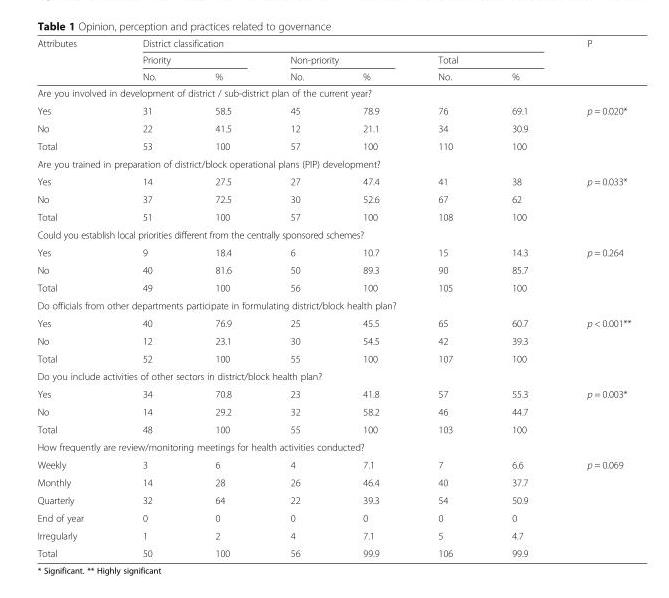table: (36, 37, 630, 558)
table column: (36, 37, 112, 558), (184, 37, 260, 558), (332, 37, 408, 558), (481, 37, 556, 558), (556, 37, 630, 558), (408, 37, 481, 558), (112, 37, 184, 558), (260, 37, 332, 558)
table column header: (36, 37, 630, 84)
table projected row header: (36, 154, 630, 172), (36, 225, 630, 243), (36, 296, 630, 314), (36, 437, 630, 455), (36, 84, 630, 101), (36, 367, 630, 384)
table row: (36, 101, 630, 119), (36, 136, 630, 154), (36, 154, 630, 172), (36, 172, 630, 190), (36, 207, 630, 225), (36, 225, 630, 243), (36, 260, 630, 278), (36, 278, 630, 296), (36, 296, 630, 314), (36, 331, 630, 349), (36, 349, 630, 367), (36, 384, 630, 402), (36, 402, 630, 420), (36, 437, 630, 455), (36, 455, 630, 473), (36, 473, 630, 491), (36, 508, 630, 526), (36, 526, 630, 544), (36, 67, 630, 84), (36, 84, 630, 101), (36, 119, 630, 136), (36, 190, 630, 207), (36, 243, 630, 260), (36, 314, 630, 331), (36, 367, 630, 384), (36, 420, 630, 437), (36, 491, 630, 508), (36, 51, 630, 67), (36, 37, 630, 51), (36, 544, 630, 558)
table spanning cell: (556, 455, 630, 558), (112, 37, 556, 51), (556, 101, 630, 154), (556, 172, 630, 225), (556, 243, 630, 296), (556, 314, 630, 367), (556, 384, 630, 437), (36, 37, 112, 84), (556, 37, 630, 84), (112, 51, 260, 67), (260, 51, 408, 67), (408, 51, 556, 67)
